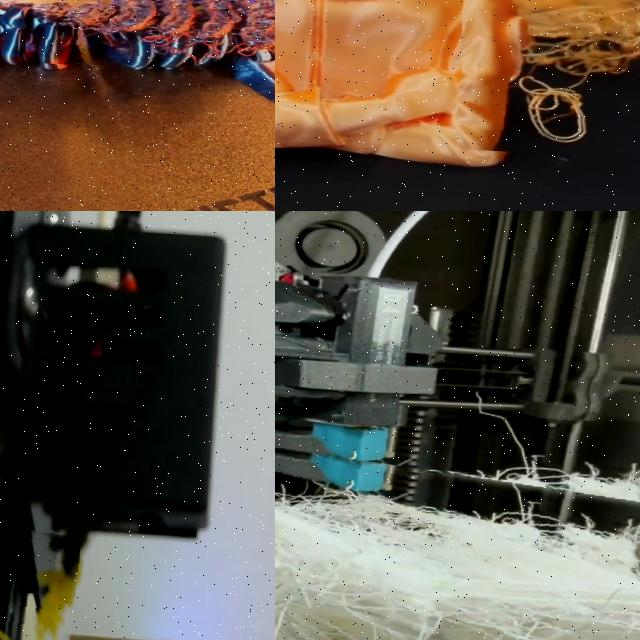spaghetti: (275, 414, 640, 640), (456, 0, 640, 161), (44, 0, 275, 81)
